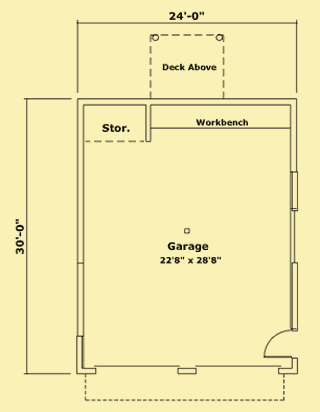door: (261, 328, 297, 360)
